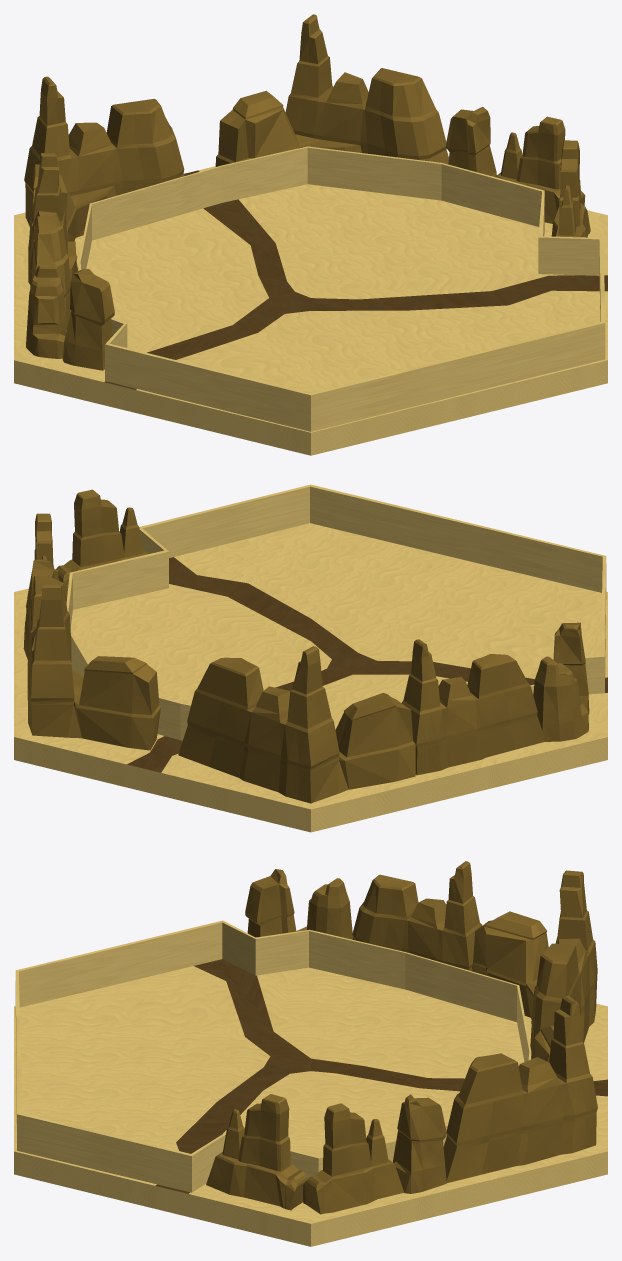
The model's file is map2.fbx.
3 views of the same model, one above another, from view 1: azimuth 30°, elevation 25°; view 2: azimuth 150°, elevation 25°; view 3: azimuth 270°, elevation 25° (orthographic).
Parts seen in each view (by area): view 1: Ground, Wall, Mountain8, Mountain5, Mountain6, Mountain4, Mountain7, Mountain2, Mountain10, Mountain9; view 2: Ground, Wall, Mountain5, Mountain8, Mountain6, Mountain9, Mountain2, Mountain7, Mountain4, Mountain10; view 3: Ground, Wall, Mountain8, Mountain5, Mountain6, Mountain9, Mountain4, Mountain10, Mountain7, Mountain2.
Part boxes in pixels (x1,y1,x2,y2): Ground: (14, 166, 607, 455); Wall: (78, 146, 605, 431); Mountain8: (215, 14, 448, 166); Mountain5: (24, 76, 184, 241); Mountain6: (28, 152, 77, 329); Mountain4: (495, 116, 585, 223); Mountain7: (62, 269, 114, 370); Mountain2: (26, 263, 66, 358); Mountain10: (446, 107, 496, 176); Mountain9: (551, 140, 590, 237); Ground: (14, 523, 607, 832); Wall: (66, 484, 606, 740); Mountain5: (178, 646, 415, 803); Mountain8: (27, 576, 160, 750); Mountain6: (402, 639, 544, 775); Mountain9: (56, 489, 147, 602); Mountain2: (533, 656, 588, 741); Mountain7: (553, 622, 589, 714); Mountain4: (26, 513, 54, 610); Mountain10: (23, 559, 58, 659); Ground: (14, 959, 607, 1246); Wall: (15, 920, 531, 1192); Mountain8: (443, 995, 597, 1182); Mountain5: (472, 870, 597, 1059); Mountain6: (352, 861, 482, 971); Mountain9: (206, 1094, 308, 1210); Mountain4: (303, 1103, 403, 1214); Mountain10: (393, 1094, 446, 1193); Mountain7: (245, 869, 296, 937); Mountain2: (296, 878, 352, 939).
Bounding box in the file's own units: 53.96 × 14.45 × 46.73.
